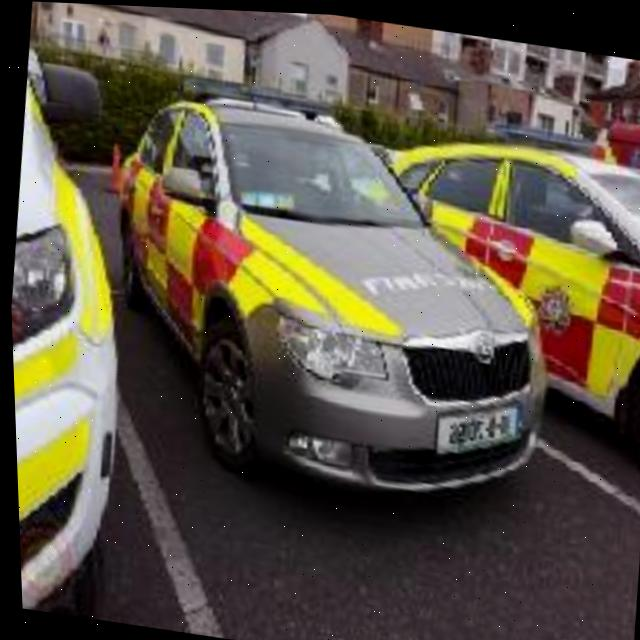emergency: (101, 84, 580, 513), (369, 114, 640, 427)
